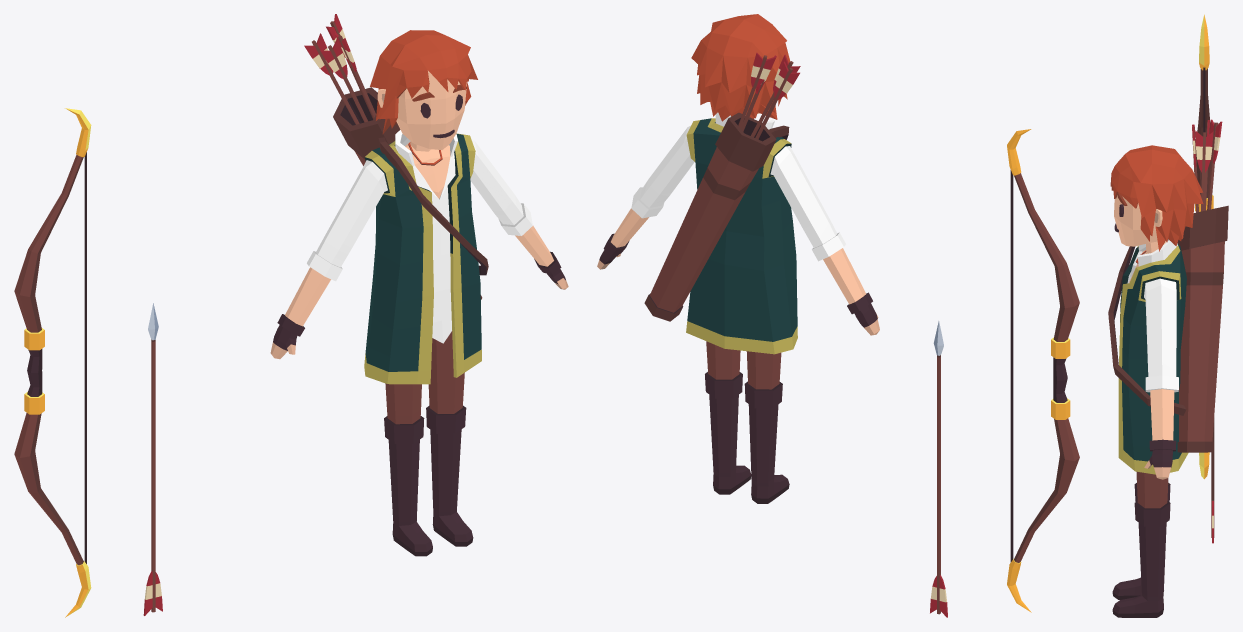
File: archer_fantasy.glb
The picture shows the model from 3 angles, left to right: view 1: azimuth 30°, elevation 25°; view 2: azimuth 150°, elevation 25°; view 3: azimuth 270°, elevation 25°; orthographic projection. The views are drawn at different scales.
Visible parts, largest first — view 1: body_0, bow_6, hair_5, arrow_bag_8, arrows_9, arrow_7; view 2: body_0, arrow_bag_8, bow_6, hair_5, arrows_9, arrow_7; view 3: body_0, arrow_bag_8, hair_5, bow_6, arrows_9, arrow_7.
Boxes of the visible parts, <box> form: body_0: <box>270,71,568,556</box>; bow_6: <box>14,108,91,617</box>; hair_5: <box>370,30,477,134</box>; arrow_bag_8: <box>333,87,488,299</box>; arrows_9: <box>304,14,375,124</box>; arrow_7: <box>143,303,162,615</box>; body_0: <box>597,112,879,503</box>; arrow_bag_8: <box>644,112,789,321</box>; bow_6: <box>1007,129,1079,612</box>; hair_5: <box>691,14,790,121</box>; arrows_9: <box>738,52,800,139</box>; arrow_7: <box>930,321,947,617</box>; body_0: <box>1112,195,1188,617</box>; arrow_bag_8: <box>1108,205,1228,452</box>; hair_5: <box>1110,145,1203,251</box>; bow_6: <box>1195,14,1213,479</box>; arrows_9: <box>1192,119,1222,212</box>; arrow_7: <box>1211,418,1214,543</box>.
Size of the model in its own units: 4.95 by 4.94 by 1.08.
1 material, 1 textured.
